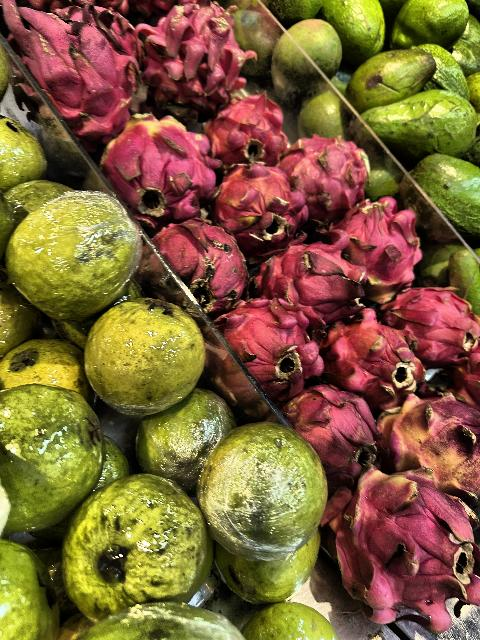buah-naga-belum-matang: (330, 463, 480, 634), (94, 116, 230, 224), (366, 389, 480, 516), (136, 2, 248, 122), (328, 203, 426, 305), (217, 165, 310, 251)
buah-naga-matang: (2, 0, 146, 146), (192, 303, 334, 412), (308, 310, 429, 406), (279, 382, 391, 484), (246, 247, 376, 326), (141, 222, 249, 316), (380, 280, 480, 370), (276, 134, 373, 222), (195, 89, 293, 168)
